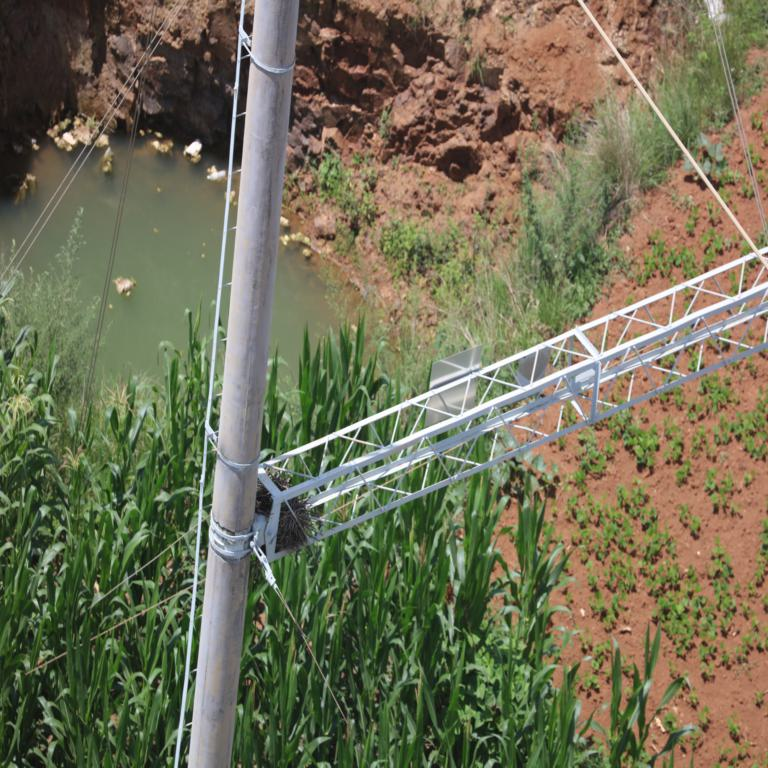nest: (260, 470, 308, 548)
